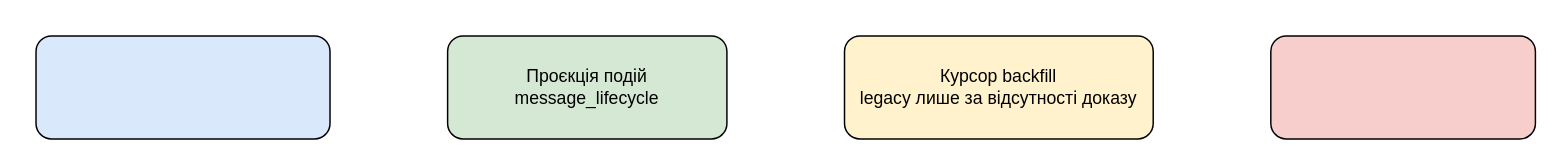
The diagram is 1561 pixels wide and 165 high, and some of its shapes have lost their labels. The box of each missing label's shape, as (x1, y1, x2, y2) in pixels:
Звіряння пізній/відсутній звіт: (1269, 35, 1535, 139)
Незмінні докази raw, stage, події, доставки: (35, 35, 330, 139)
